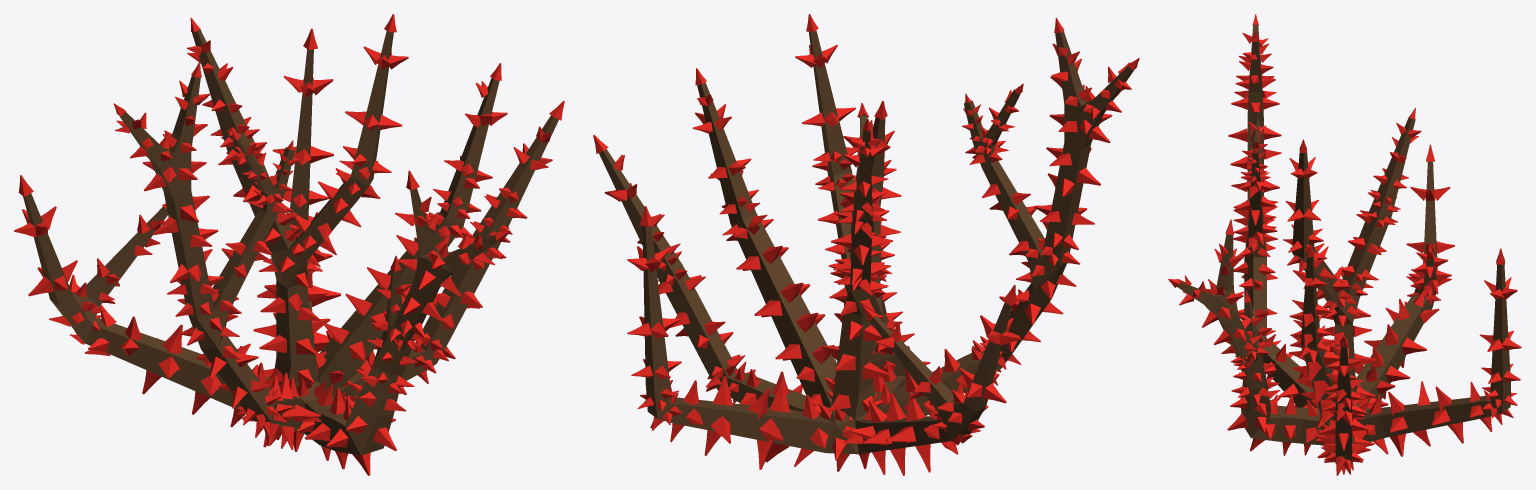
The model's file is thorns_1.fbx.
The picture shows the model from 3 angles, left to right: view 1: azimuth 30°, elevation 25°; view 2: azimuth 150°, elevation 25°; view 3: azimuth 270°, elevation 25°; orthographic projection. The views are drawn at different scales.
Visible parts, largest first — view 1: THORN_1; view 2: THORN_1; view 3: THORN_1.
Boxes of the visible parts, x1=… form: THORN_1: x1=14, y1=14, x2=564, y2=475; THORN_1: x1=593, y1=14, x2=1139, y2=475; THORN_1: x1=1168, y1=14, x2=1521, y2=475.
Bounding box in the file's own units: 169 × 146 × 129.
